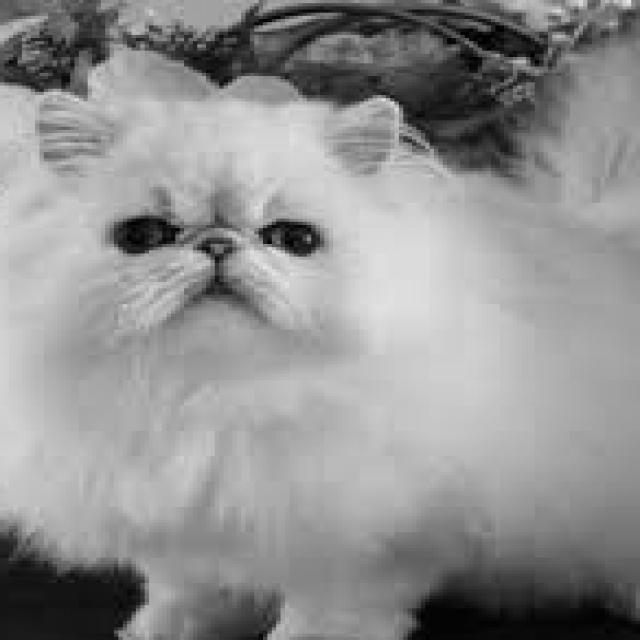iran: (50, 158, 396, 366)
